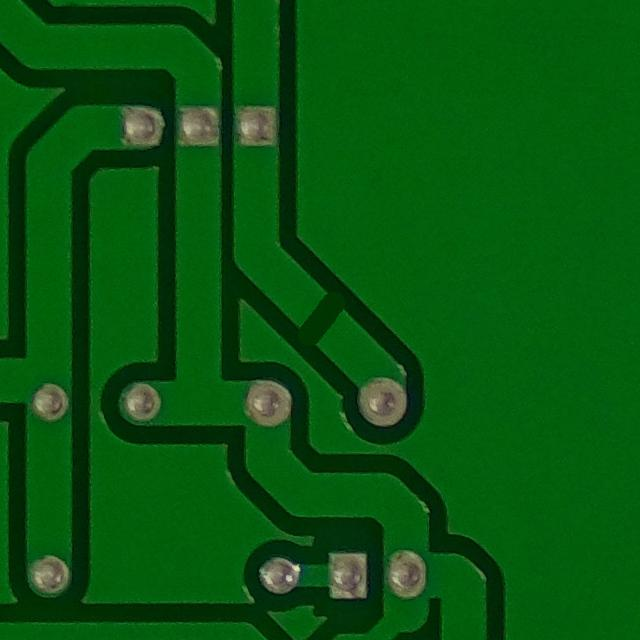open_circuit: (272, 274, 369, 366)
